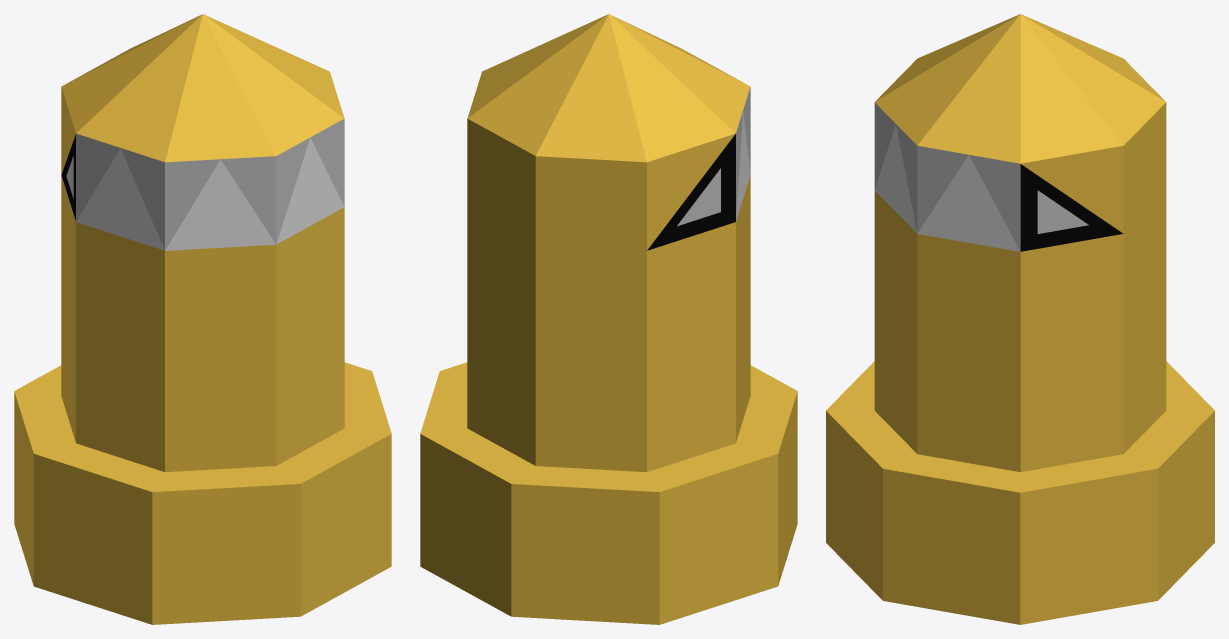
The model's file is Bala.fbx.
3 renders of one model, left to right at view 1: azimuth 30°, elevation 25°; view 2: azimuth 150°, elevation 25°; view 3: azimuth 270°, elevation 25°, orthographic.
Visible parts, largest first — view 1: Bala; view 2: Bala; view 3: Bala.
Part boxes in pixels (x1,y1,x2,y2): Bala: (14, 14, 391, 624); Bala: (420, 14, 797, 624); Bala: (826, 14, 1214, 624).
Size of the model in its own units: 200 by 300 by 200.
